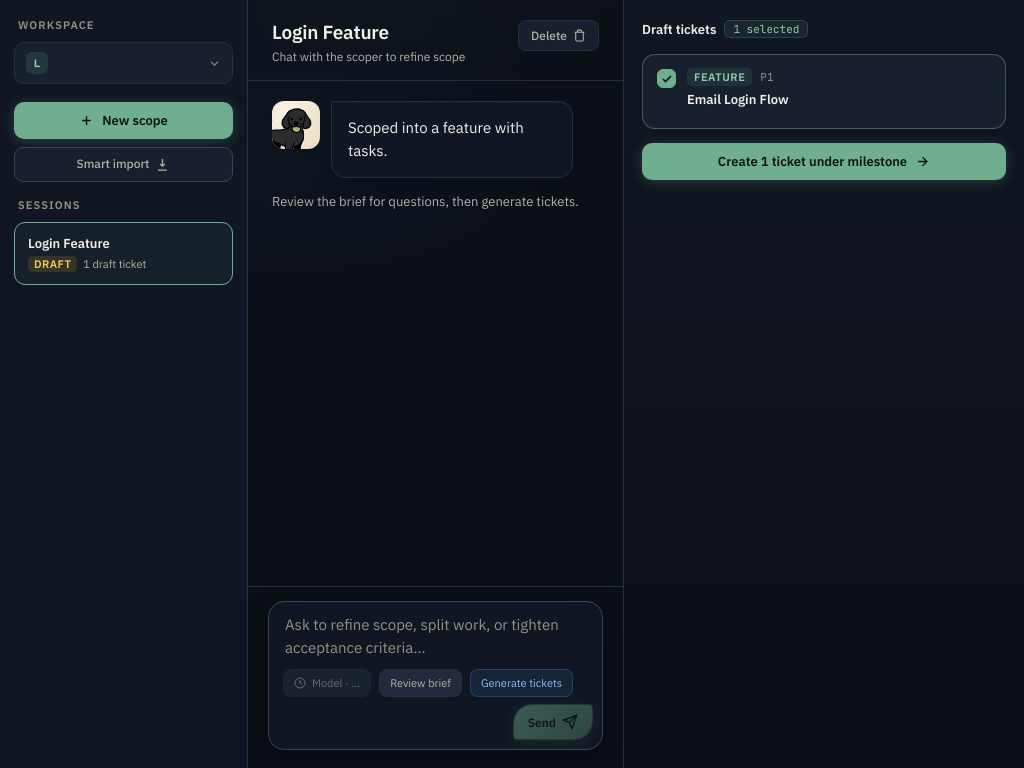
Test case: ADVA-INT-1: API Response Mutations › ADVA-INT-1.1: handles a response with an empty created_ticket_ids array
The width and height of the screenshot is (1024, 768).
What coordinates should you click on to do the following:
click the button "Create 1 ticket under milestone"
I would click on:
 (824, 161)
Its box is [642, 143, 1006, 180].
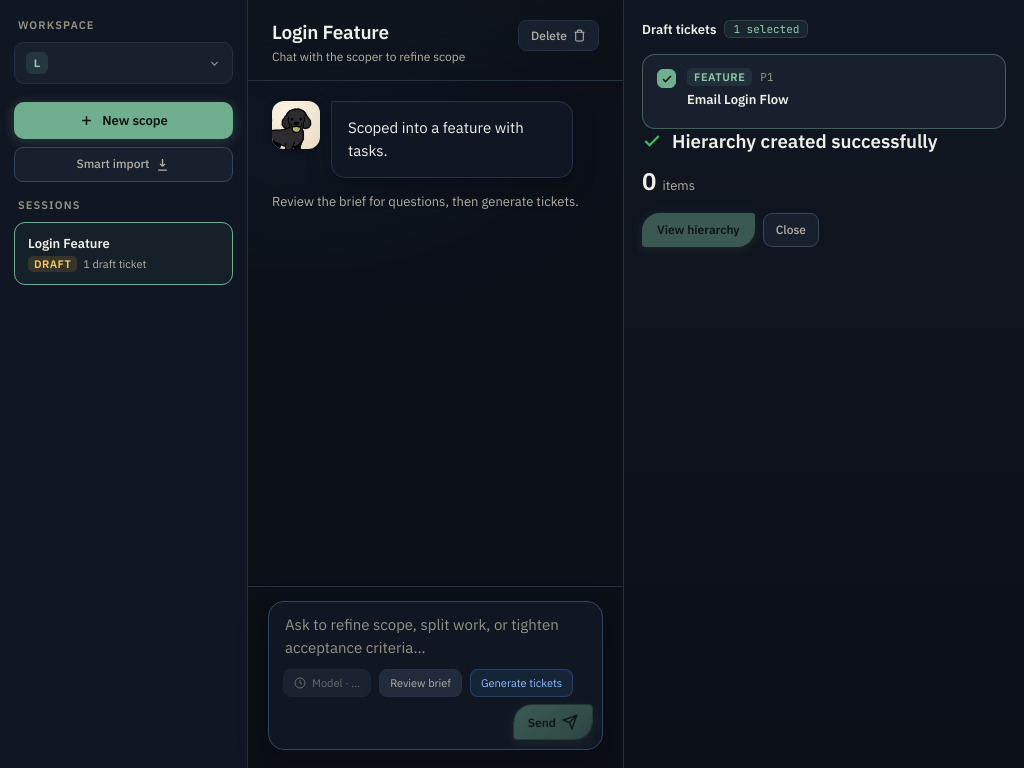
expect the text "0" is shown: met, box [642, 165, 656, 197]
